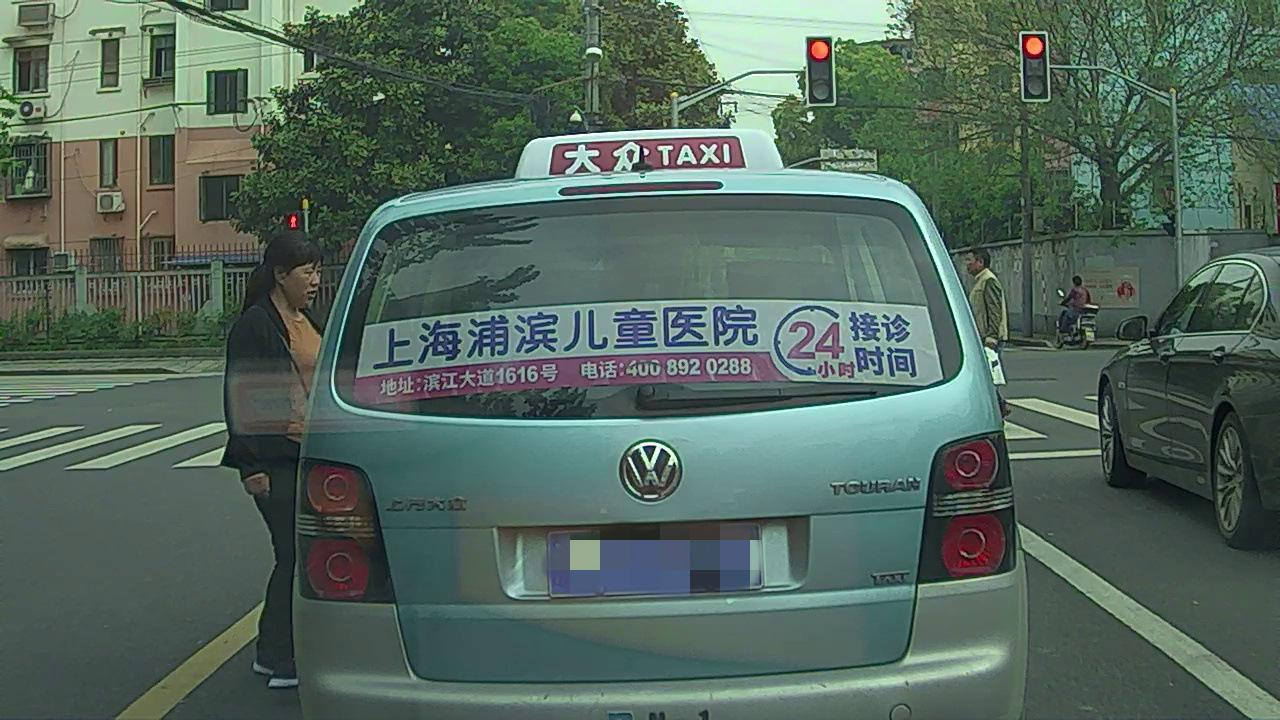traffic_light: (807, 39, 834, 105), (1024, 35, 1049, 100)
